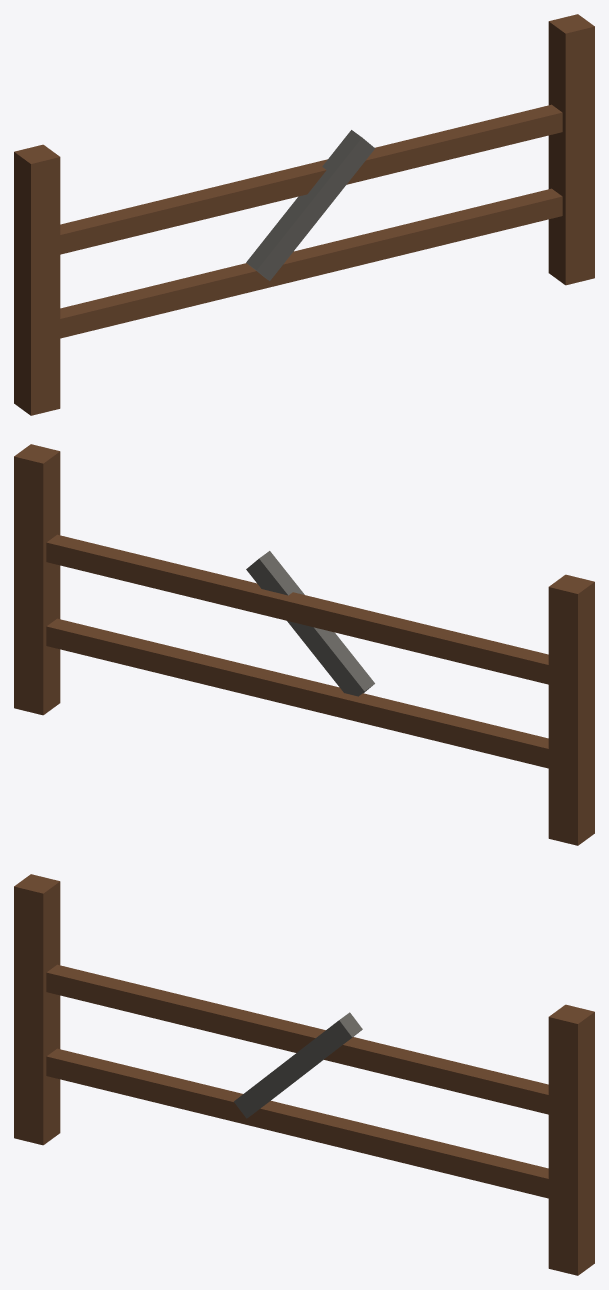
Rendered from Fence.glb.
The picture shows the model from 3 angles, top to bottom: view 1: azimuth 30°, elevation 25°; view 2: azimuth 150°, elevation 25°; view 3: azimuth 330°, elevation 25°; orthographic projection.
Visible parts, largest first — view 1: hand-pump-static-fence-timber, hand-pump-static-fence-metal; view 2: hand-pump-static-fence-timber, hand-pump-static-fence-metal; view 3: hand-pump-static-fence-timber, hand-pump-static-fence-metal.
Part boxes in pixels (bbox=[...]): hand-pump-static-fence-timber: bbox=[14, 14, 594, 415]; hand-pump-static-fence-metal: bbox=[246, 130, 374, 280]; hand-pump-static-fence-timber: bbox=[14, 444, 594, 845]; hand-pump-static-fence-metal: bbox=[246, 551, 374, 696]; hand-pump-static-fence-timber: bbox=[14, 874, 594, 1275]; hand-pump-static-fence-metal: bbox=[234, 1012, 362, 1118].
Bounding box in the file's own units: 4.22 × 1.8 × 0.26.
